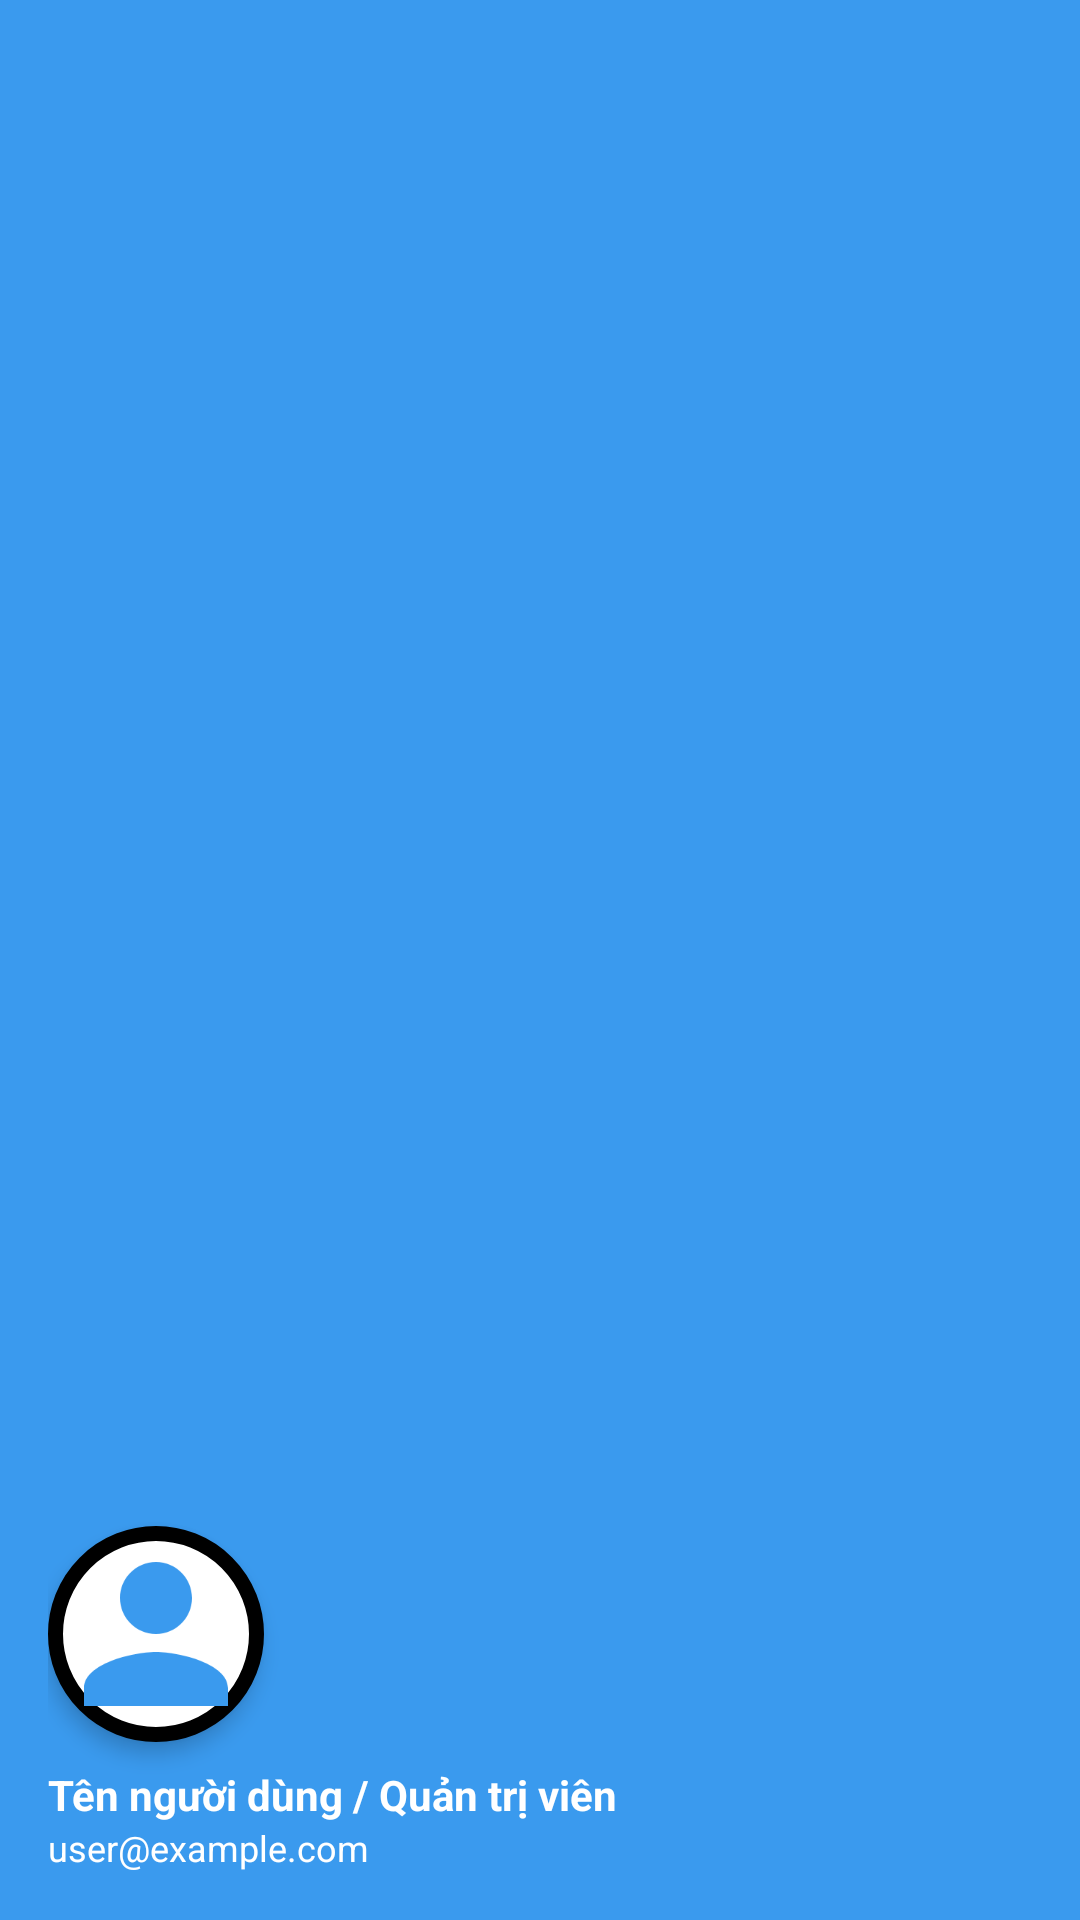

Icon bounding boxes for this 1080*1920 phone screenshot, format [x1, y1, x2, y2]:
Ảnh đại diện: [48, 1526, 264, 1742]
